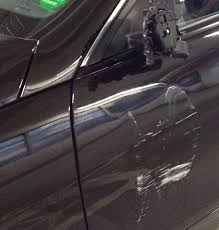Dent: (169, 68, 204, 86)
Scratch: (134, 163, 195, 223), (128, 110, 165, 152), (179, 108, 202, 153)
